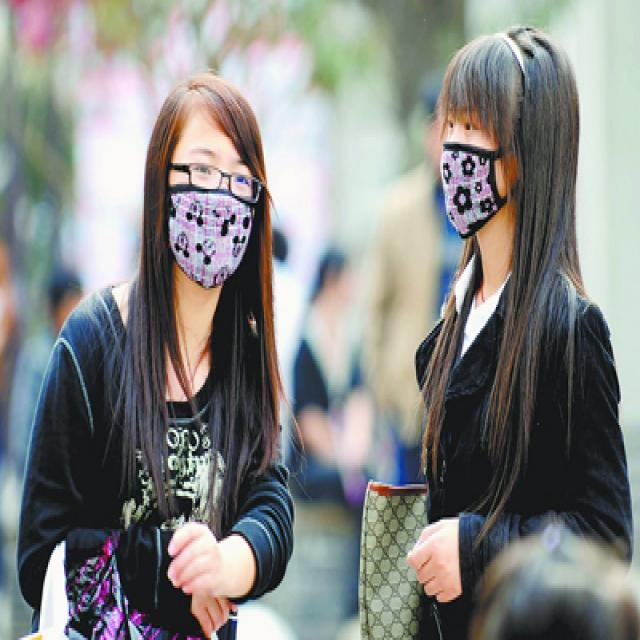mask: (171, 117, 258, 289), (442, 84, 508, 232)
